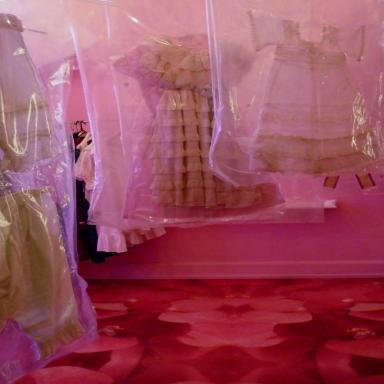dress: (114, 37, 284, 219), (0, 98, 85, 381), (248, 8, 383, 176)
plasticbag: (55, 0, 326, 223), (0, 0, 100, 383), (202, 0, 382, 185)
